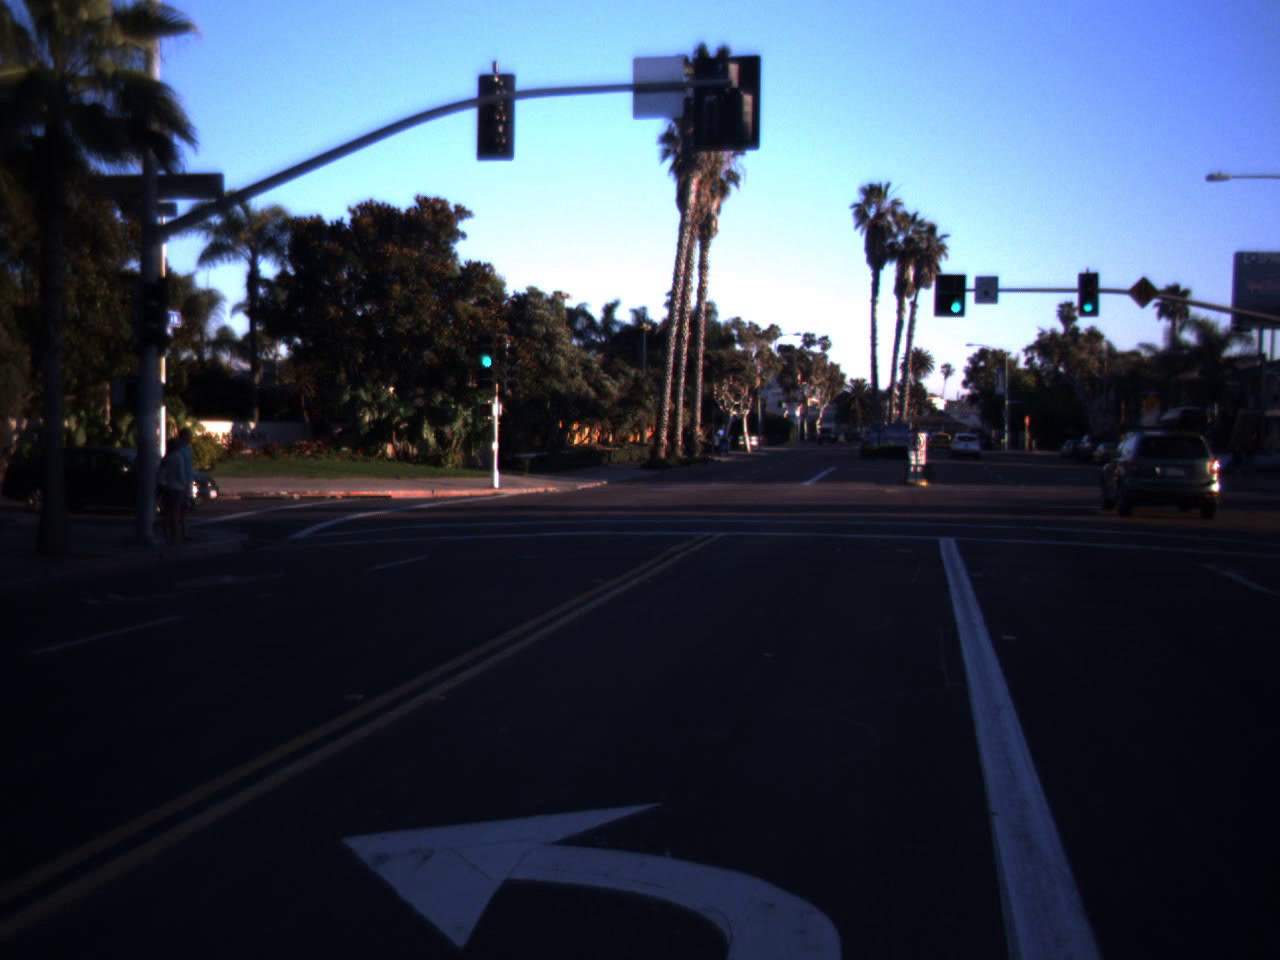go: (944, 271, 968, 316), (476, 325, 497, 370), (1079, 292, 1097, 312)
